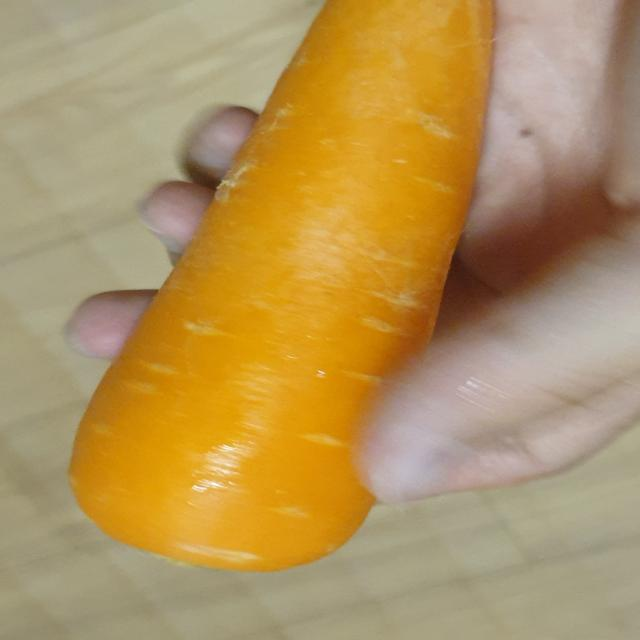Carrot: (54, 0, 512, 580)
